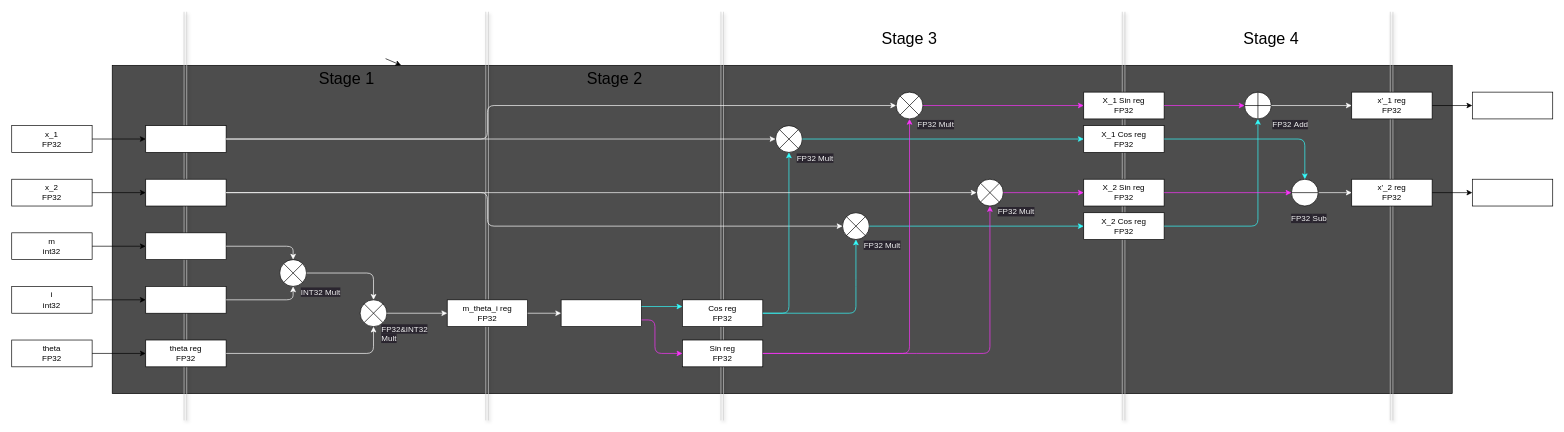
Image size: 1564x432. Some labels were removed from this diagram. The centre of each missing label's shape, as x and y in pixels:
i reg int32: the point at 185,299
m reg int32: the point at 185,246
Sin/Cos Lut: the point at 601,313
x'_1 FP32: the point at 1512,105
x'_2 FP32: the point at 1512,192
x_1 reg FP32: the point at 185,138
x_2 reg FP32: the point at 185,192
